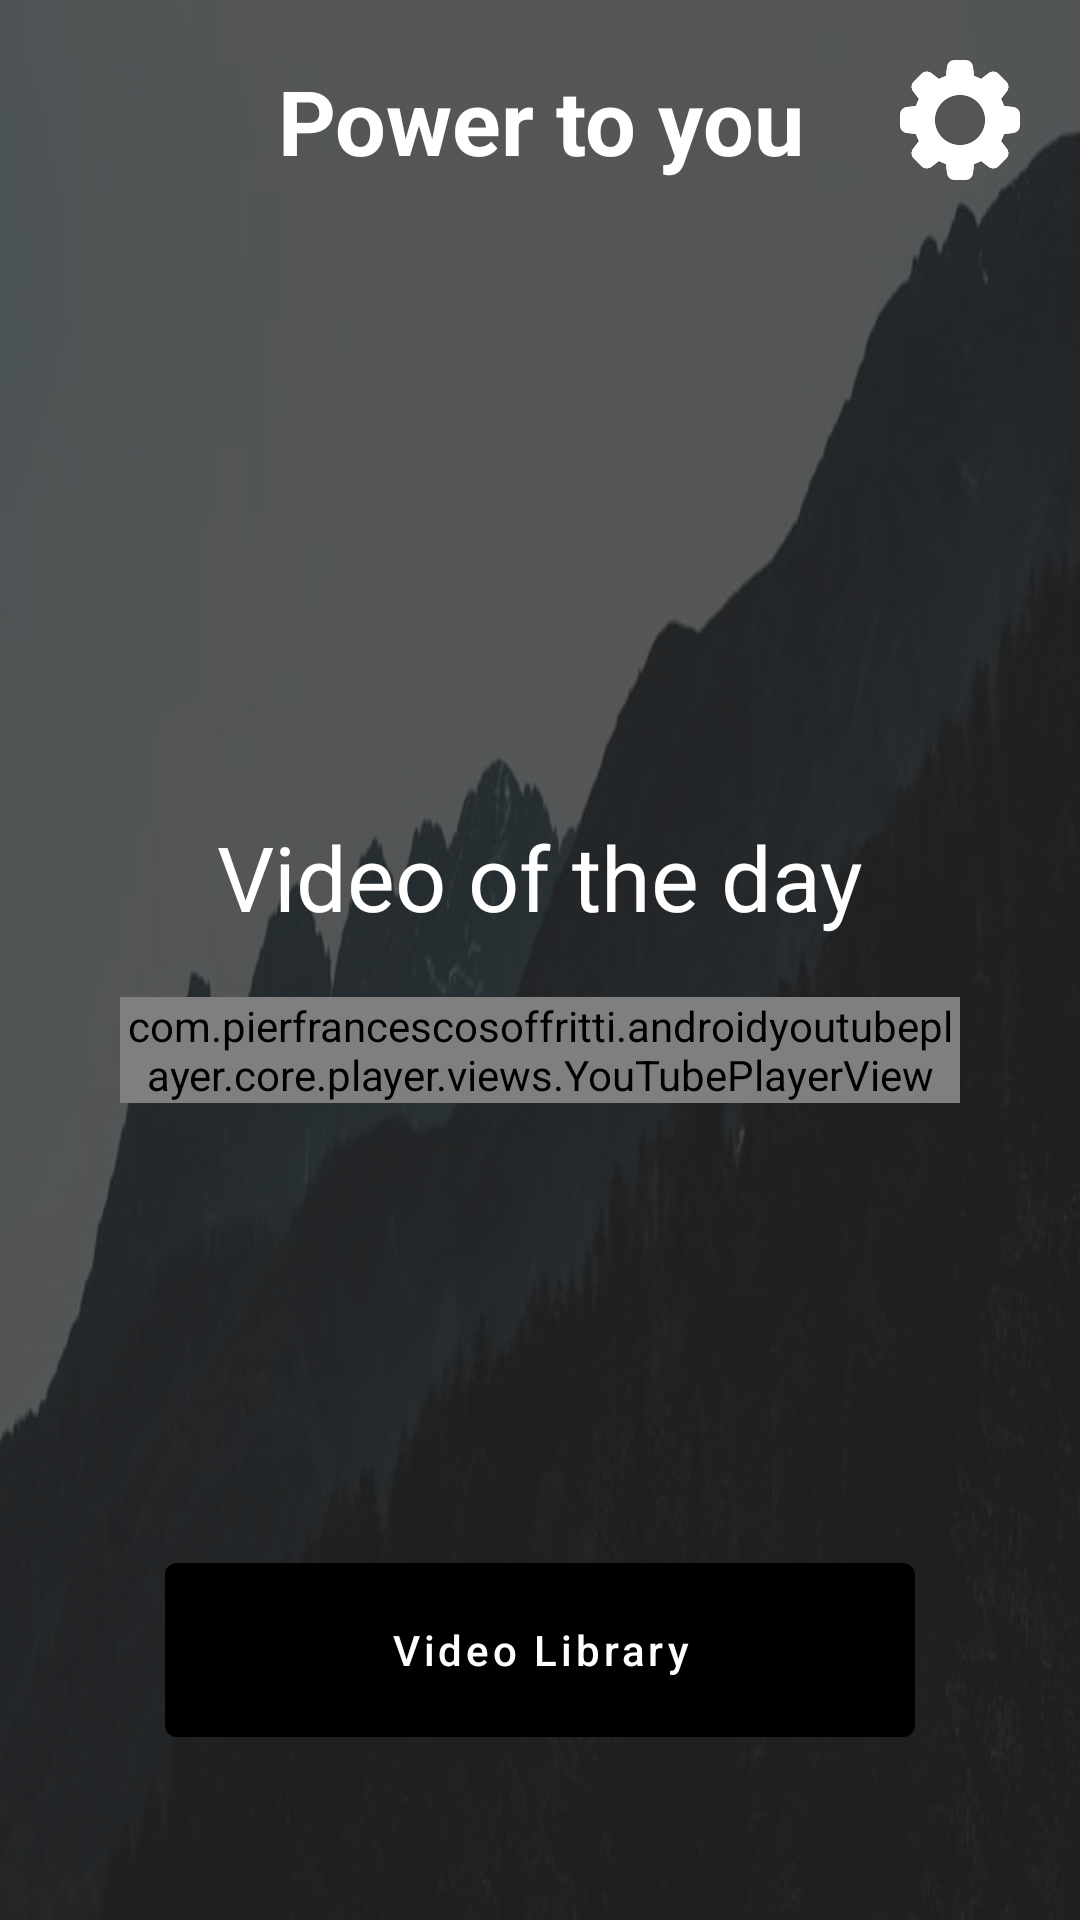

Screen size 1080px×1920px. Icon name, then its box in pixels as (x1, y1, x2, y2):
settings: (900, 60, 1020, 180)
